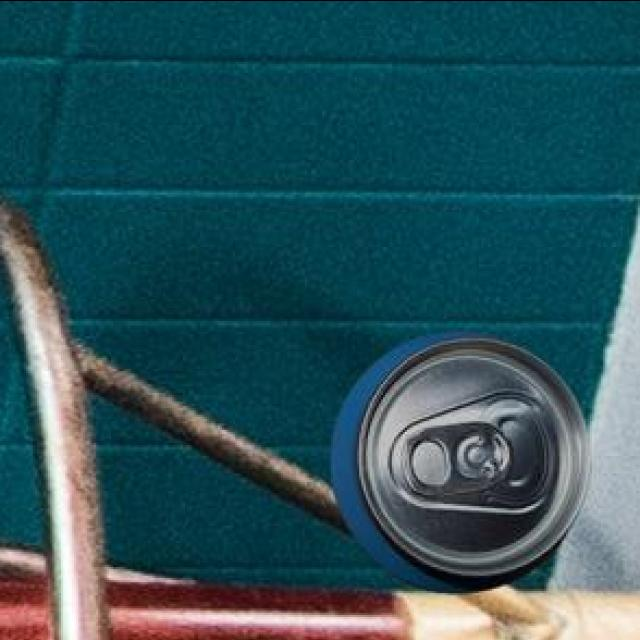logam: (328, 336, 587, 595)
